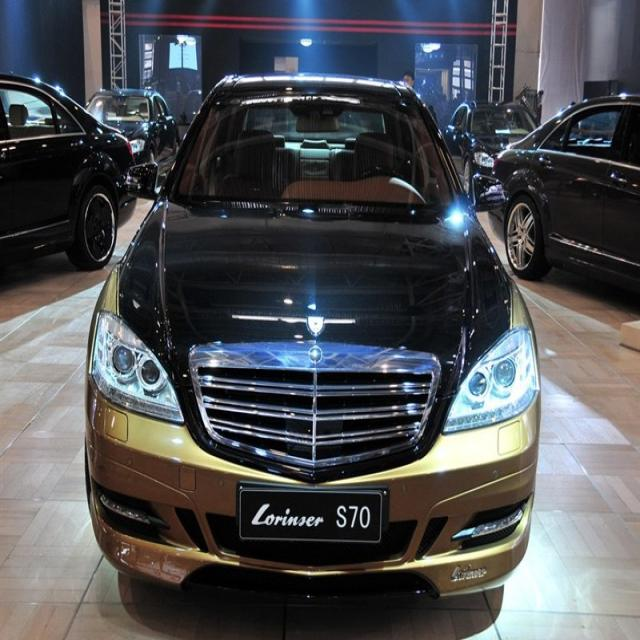front_bumper: (82, 376, 544, 599)
front_glass: (167, 89, 465, 210)
front_left_side_light: (442, 324, 540, 435)
front_left_side_mirror: (469, 171, 508, 218)
front_right_side_light: (90, 307, 186, 426)
front_right_side_mirror: (123, 160, 166, 206)
